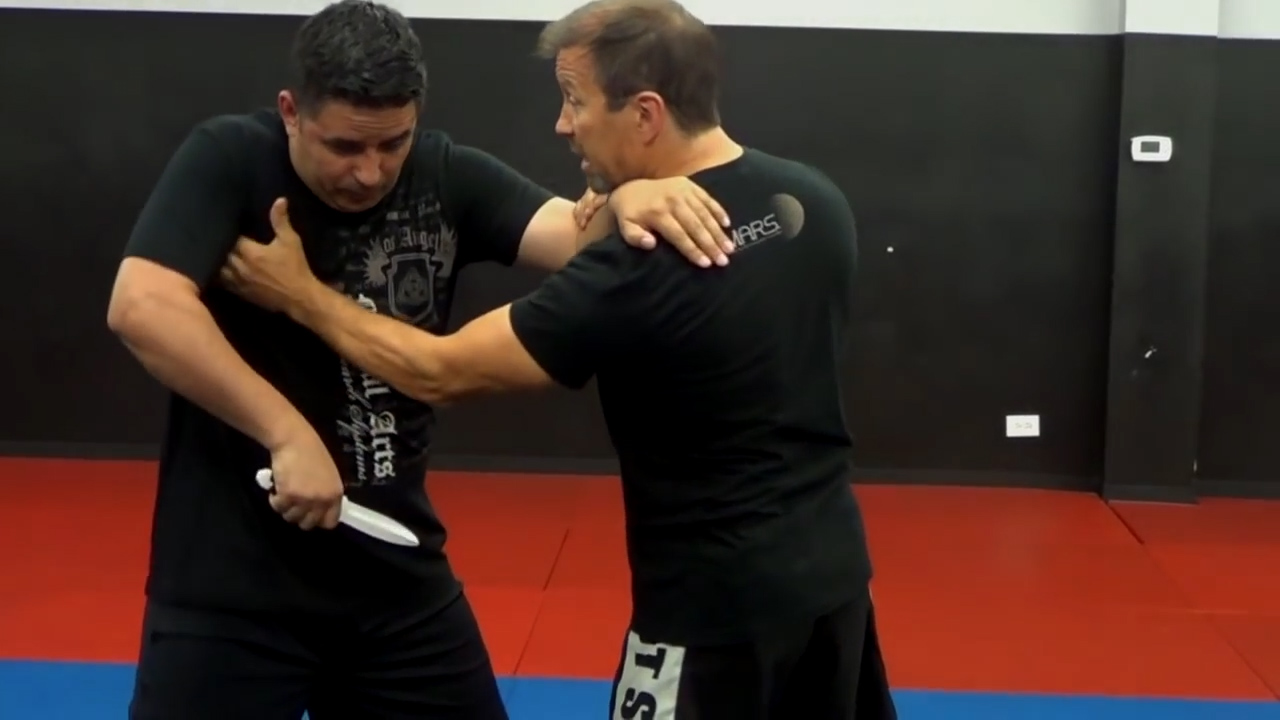knife: (249, 461, 428, 556)
